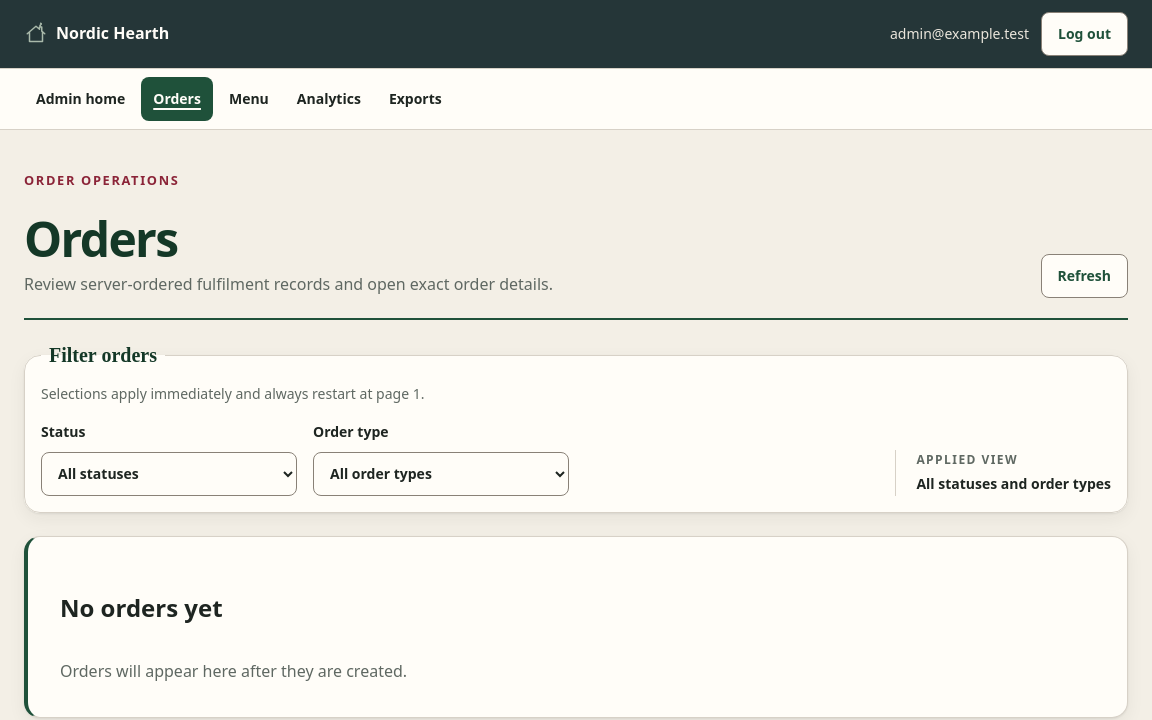
Scenario: administrator orders list › distinguishes the unfiltered and filtered empty states
The width and height of the screenshot is (1152, 720).
expect the heading "No orders yet" is shown: met, box [60,591,223,624]
Select "Ready" in the dropdown labelled "Status". click: (169, 474)
box: [41,452,297,496]
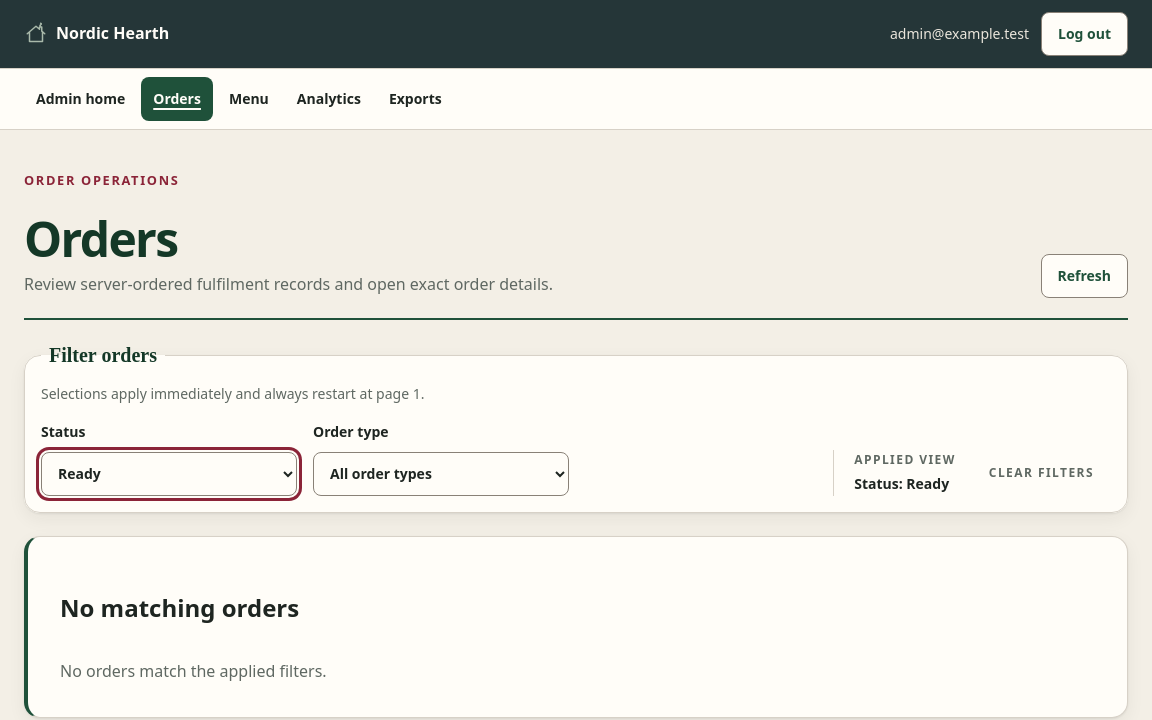
expect the heading "No matching orders" is shown: met, box [60,591,299,624]
